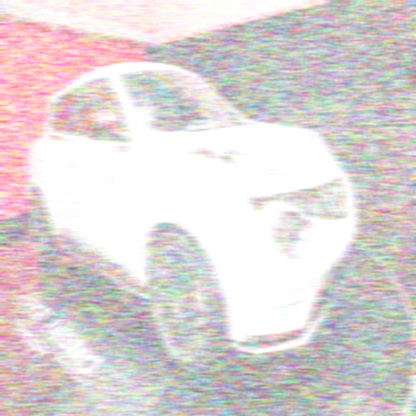Vehicle: (25, 59, 360, 376)
